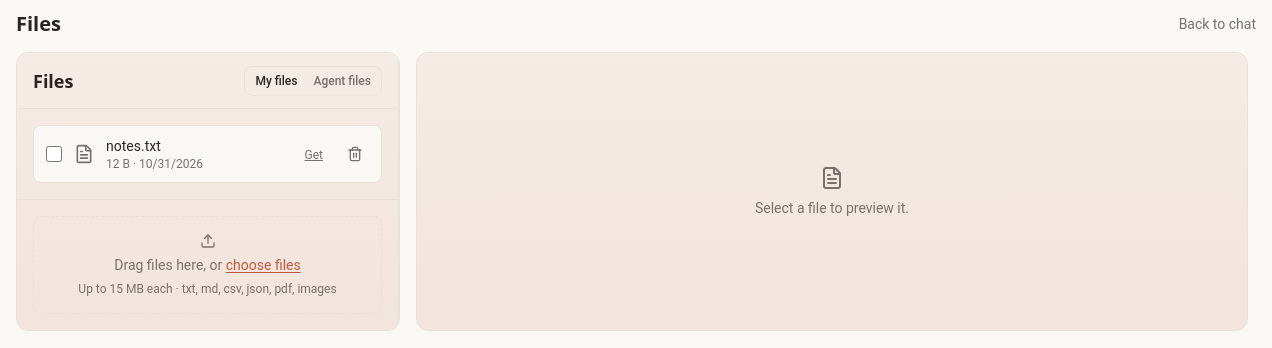
Test case: AssetsView (issue #197) › renders plain text without markdown conversion for a text format
Click the button with test id "asset-preview-a1".
click(196, 154)  # box [106, 136, 286, 172]
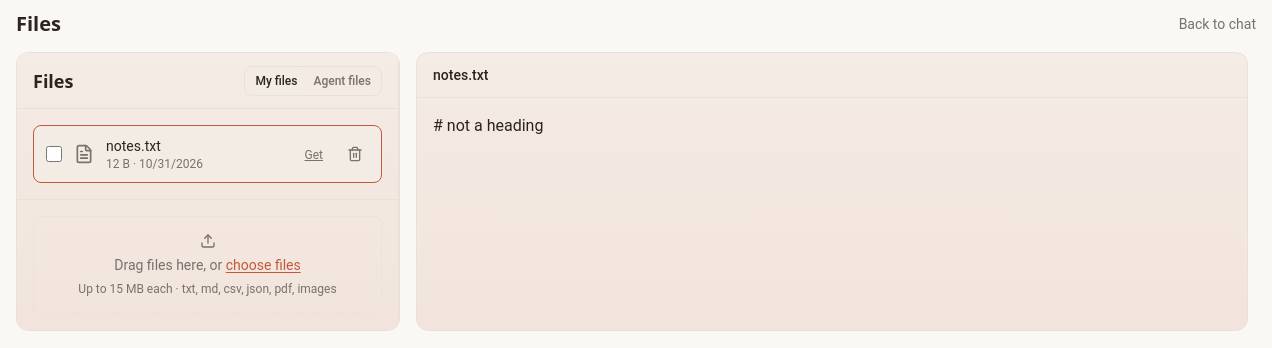
Check: the text "# not a heading" is shown, box [433, 116, 543, 135]
